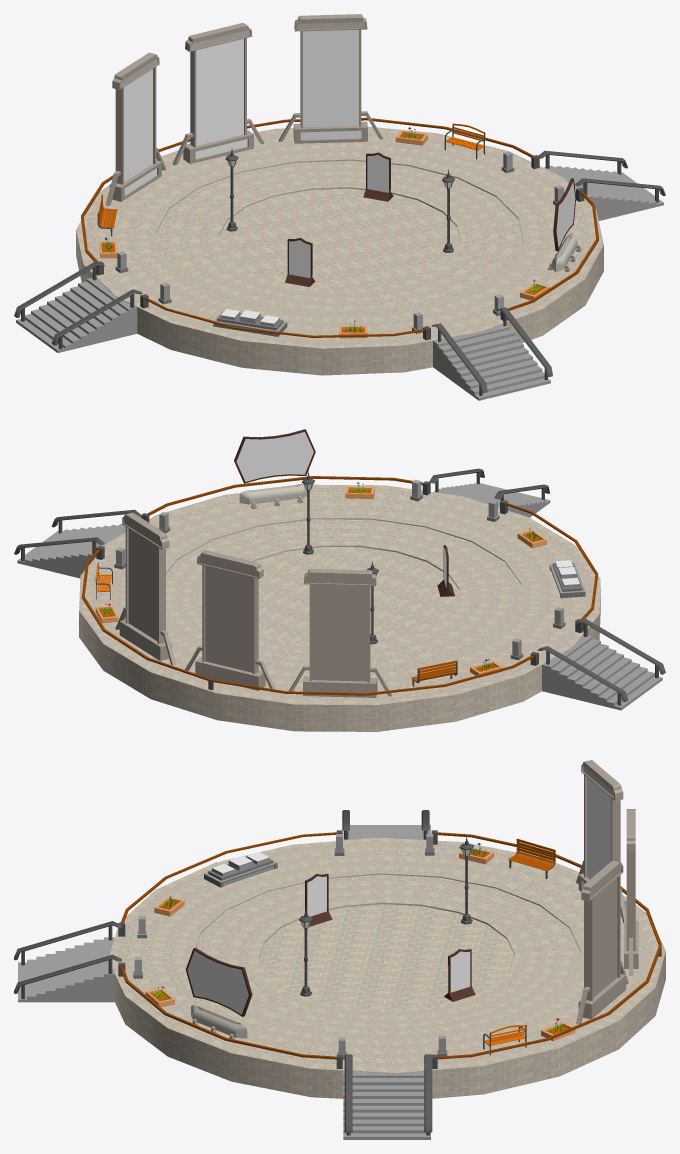
File: Lobby.glb
The picture shows the model from 3 angles, top to bottom: view 1: azimuth 30°, elevation 25°; view 2: azimuth 150°, elevation 25°; view 3: azimuth 270°, elevation 25°; orthographic projection. The views are drawn at different scales.
Visible parts, largest first — view 1: pCylinder1, pCube62, pCube48, pCube4, pCube6, pCube63, pCube5, pCylinder3, pCube57, pCube51, pCube60, pCube61 (+1 smaller); view 2: pCylinder1, pCube63, pCube48, pCube6, pCube62, pCube57, pCylinder3, pCube5, pCube4, pCube51, pCube39; view 3: pCylinder1, pCube5, pCube4, pCube62, pCube63, pCylinder3, pCube57, pCube48, pCube6, pCube51, pCube61, pCube60 (+2 smaller).
Part boxes in pixels (<box>): pCylinder1: <box>76,126,603,375</box>; pCube62: <box>278,14,382,143</box>; pCube48: <box>172,23,264,165</box>; pCube4: <box>431,307,552,400</box>; pCube6: <box>14,261,142,352</box>; pCube63: <box>105,52,166,206</box>; pCube5: <box>537,150,665,220</box>; pCylinder3: <box>81,117,598,340</box>; pCube57: <box>548,178,581,272</box>; pCube51: <box>213,309,287,336</box>; pCube60: <box>285,237,315,286</box>; pCube61: <box>363,152,393,201</box>; pCylinder1: <box>79,484,600,731</box>; pCube63: <box>289,569,391,697</box>; pCube48: <box>185,550,275,692</box>; pCube6: <box>537,618,665,710</box>; pCube62: <box>115,512,176,665</box>; pCube57: <box>234,429,315,508</box>; pCylinder3: <box>81,476,598,695</box>; pCube5: <box>14,509,142,578</box>; pCube4: <box>429,468,550,517</box>; pCube51: <box>549,560,585,598</box>; pCube39: <box>411,660,457,686</box>; pCylinder1: <box>110,837,665,1098</box>; pCube5: <box>343,1054,432,1139</box>; pCube4: <box>14,921,121,1002</box>; pCube62: <box>576,860,628,1024</box>; pCube63: <box>576,760,626,922</box>; pCylinder3: <box>118,830,661,1068</box>; pCube57: <box>185,947,252,1039</box>; pCube48: <box>624,809,638,975</box>; pCube6: <box>342,810,430,840</box>; pCube51: <box>204,852,277,887</box>; pCube61: <box>444,949,475,1001</box>; pCube60: <box>305,874,332,926</box>.
Size of what is drawn, in the model's own units: 54.65 by 12.78 by 47.74.
Materials: 2 (2 with a texture image).
